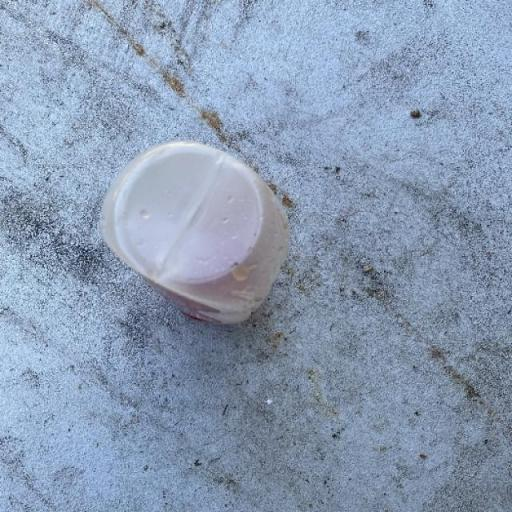plastic: (98, 138, 290, 326)
